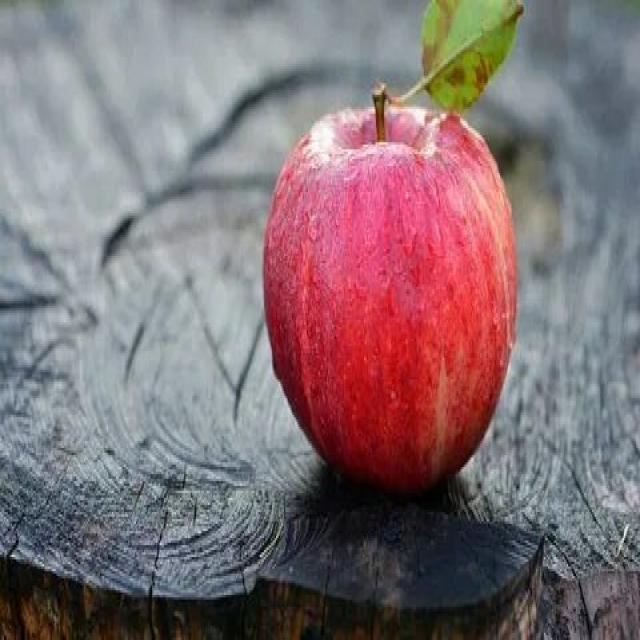Fresh Apple: (242, 102, 558, 500)
